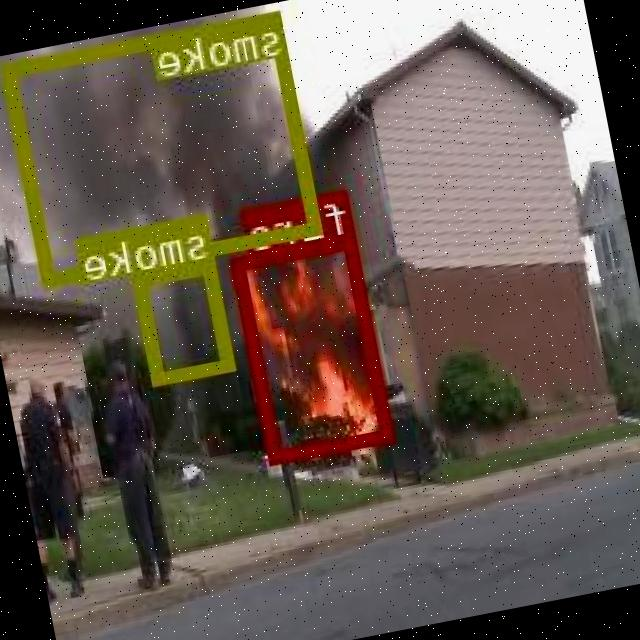fire: (234, 233, 396, 462)
smoke: (2, 8, 324, 286), (134, 256, 238, 382)
